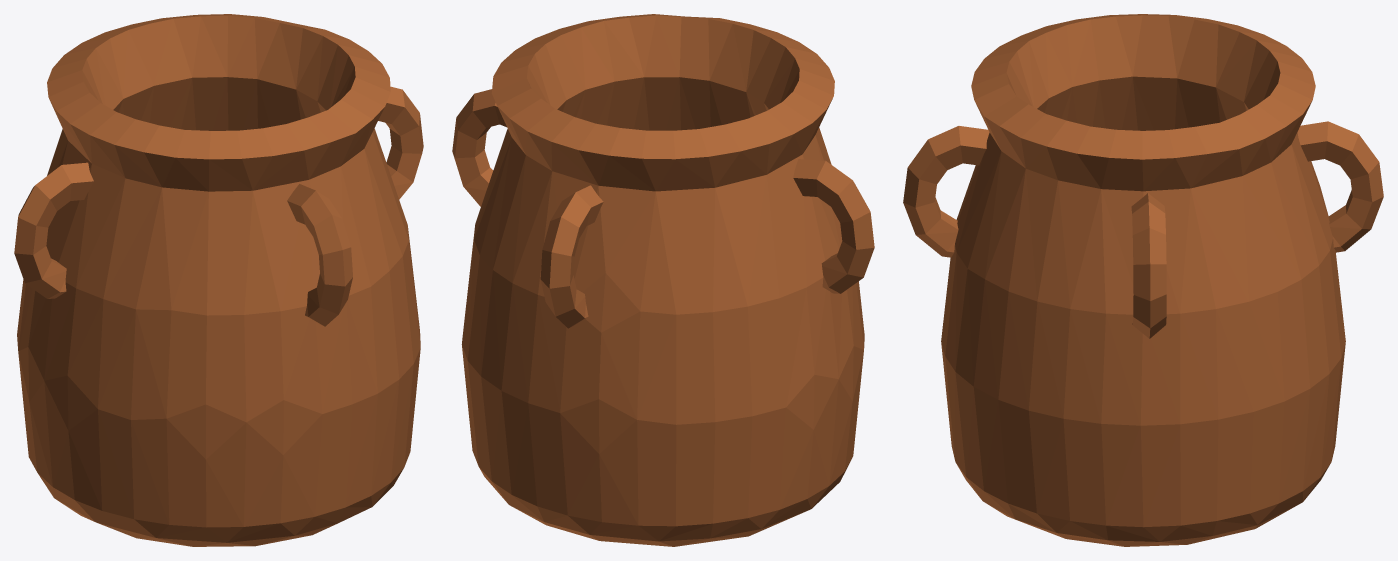
File: Pottery 4_2.fbx
3 renders of one model, left to right at view 1: azimuth 30°, elevation 25°; view 2: azimuth 150°, elevation 25°; view 3: azimuth 270°, elevation 25°, orthographic.
Visible parts, largest first — view 1: Pottery 4_2; view 2: Pottery 4_2; view 3: Pottery 4_2.
Boxes of the visible parts, <box> form: Pottery 4_2: <box>14,14,423,546</box>; Pottery 4_2: <box>452,14,874,546</box>; Pottery 4_2: <box>903,14,1383,546</box>.
Bounding box in the file's own units: 62.86 × 59.44 × 62.86.
